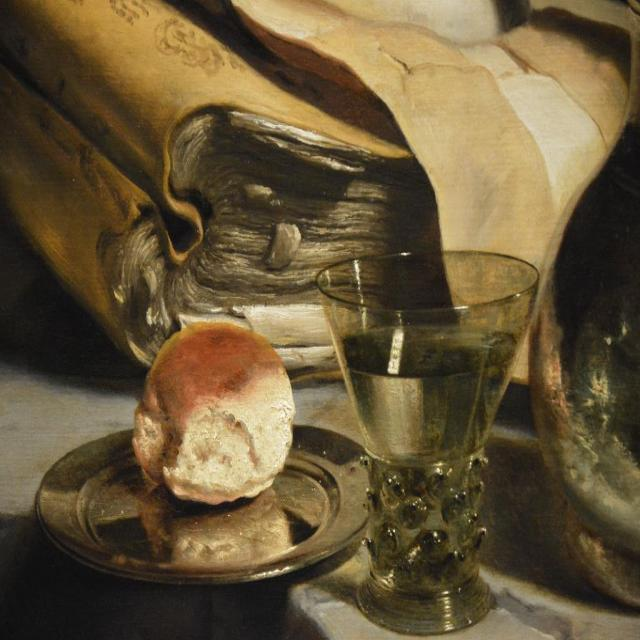ceramic plate: (32, 396, 387, 604)
